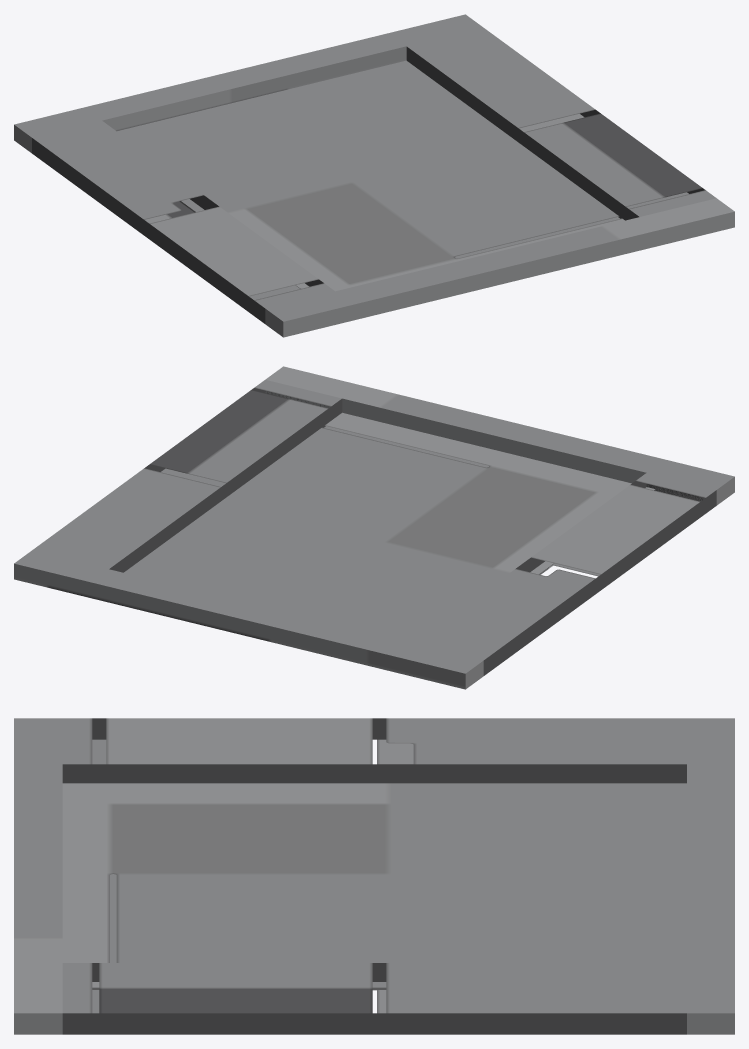
The picture shows the model from 3 angles, top to bottom: view 1: azimuth 30°, elevation 25°; view 2: azimuth 150°, elevation 25°; view 3: azimuth 270°, elevation 25°; orthographic projection. The views are drawn at different scales.
Bounding box in the file's own units: 1.04 × 0.0355 × 1.08.
